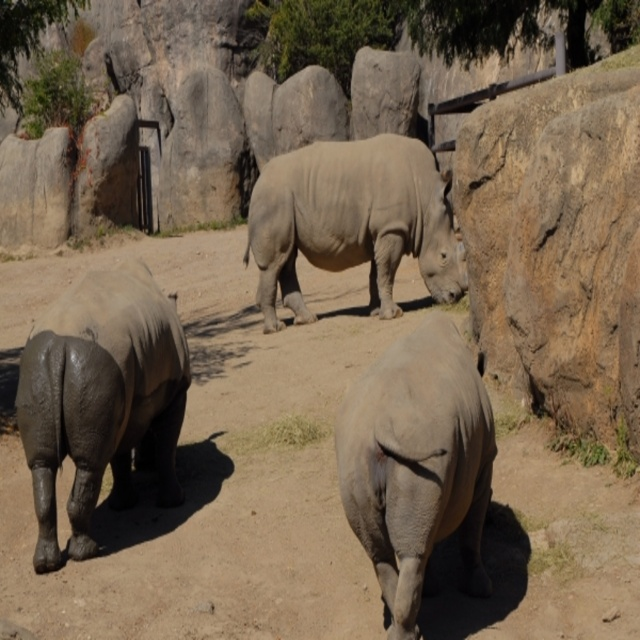Rhinoceros: (11, 253, 192, 576), (330, 310, 499, 638), (239, 131, 471, 344)
